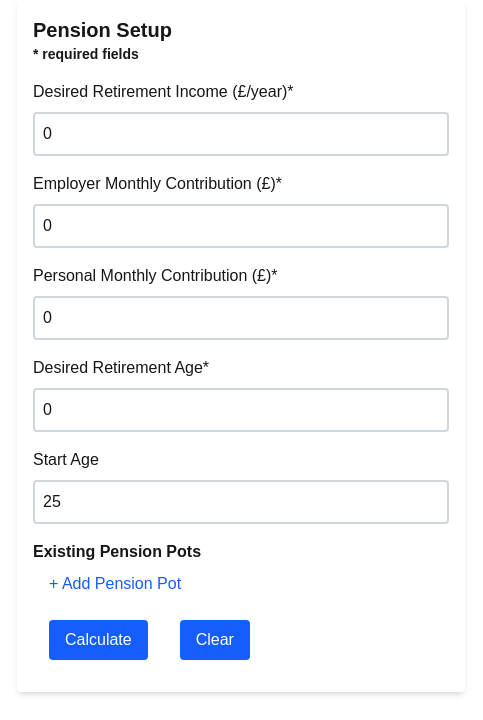
Test: PensionForm › adds a new existing pension pot when "+ Add Pension Pot" is clicked
Step 1. Click the button "+ Add Pension Pot" → (115, 584), box [33, 564, 197, 604]
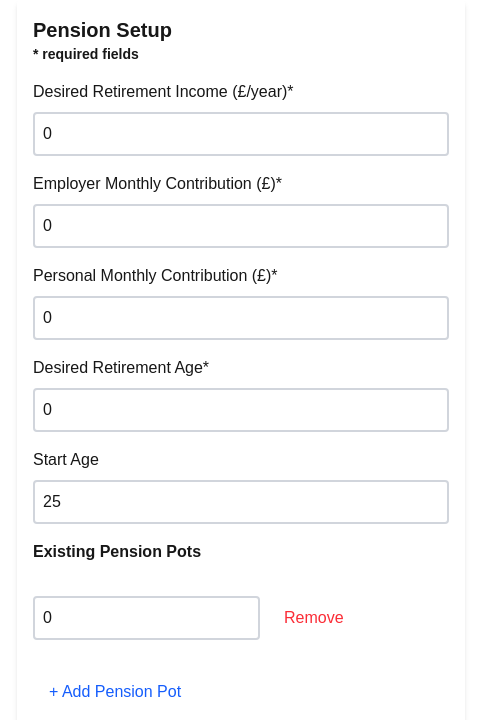
Check: the number field with test id "existing-pot-0" holds "0", box [33, 596, 260, 640]
